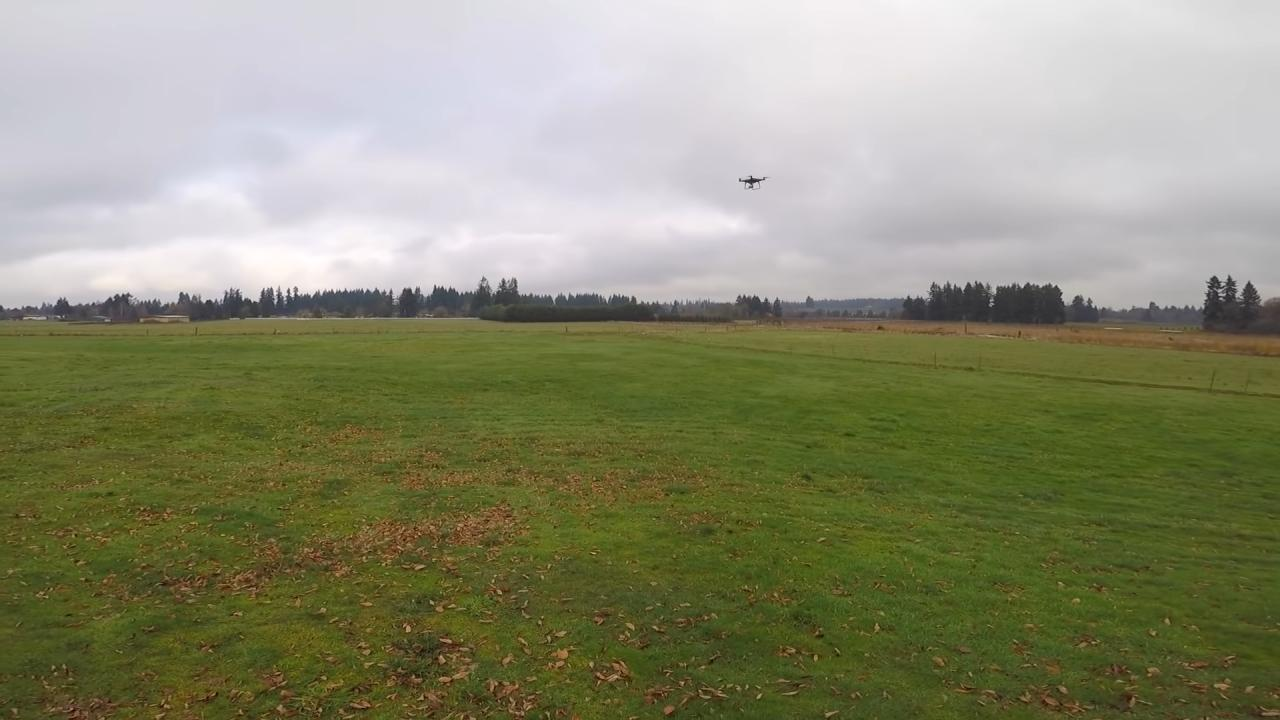Drone: (734, 169, 773, 196)
